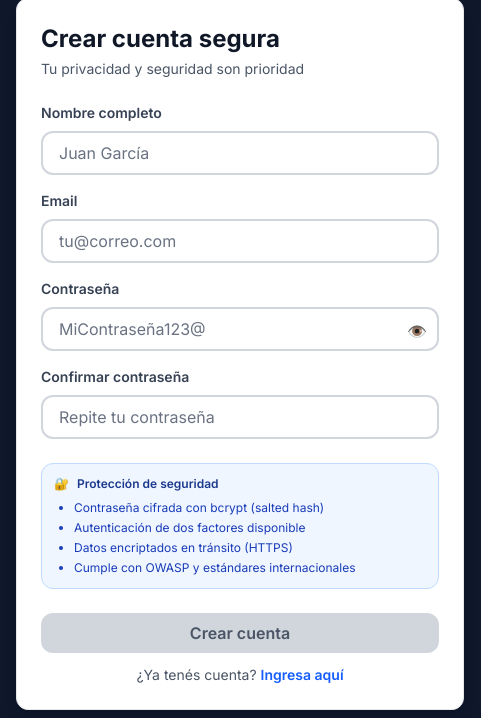
SecureSignupForm › Form submission › disables submit button for weak passwords
Expected: the button "Crear cuenta" is disabled, [41,613,439,653]
In the password field with placeholder "MiContraseña123@": (240, 329) [41,307,439,351], type "SecurePass123@"
(page scrolled)
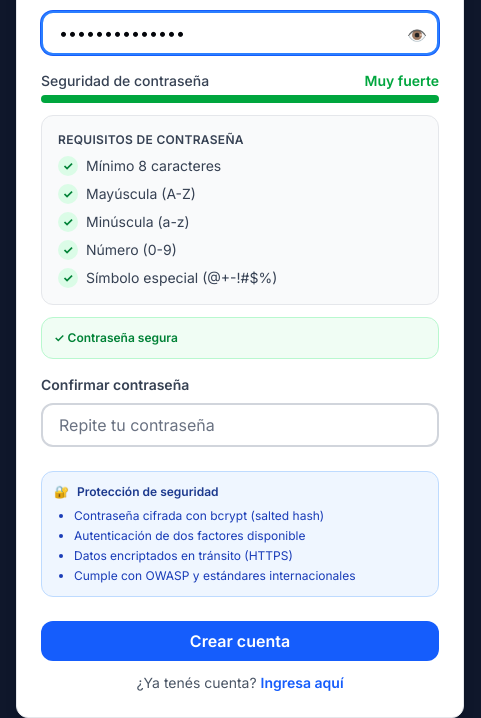
Now the button "Crear cuenta" is enabled, box [41,621,439,661]
